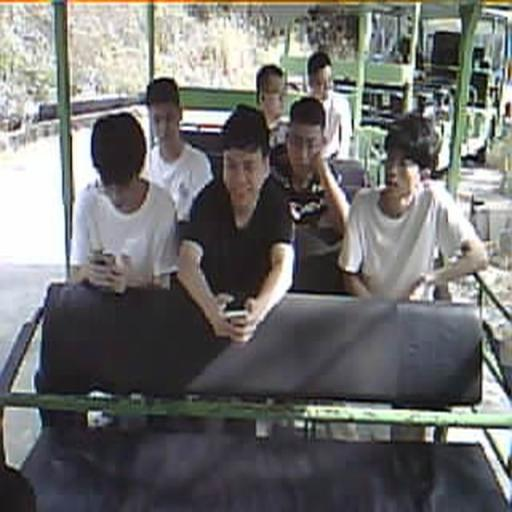persona: (337, 113, 489, 303), (176, 105, 296, 344), (70, 110, 180, 293), (260, 96, 352, 256), (142, 77, 216, 223), (306, 50, 352, 160), (254, 64, 292, 169)
